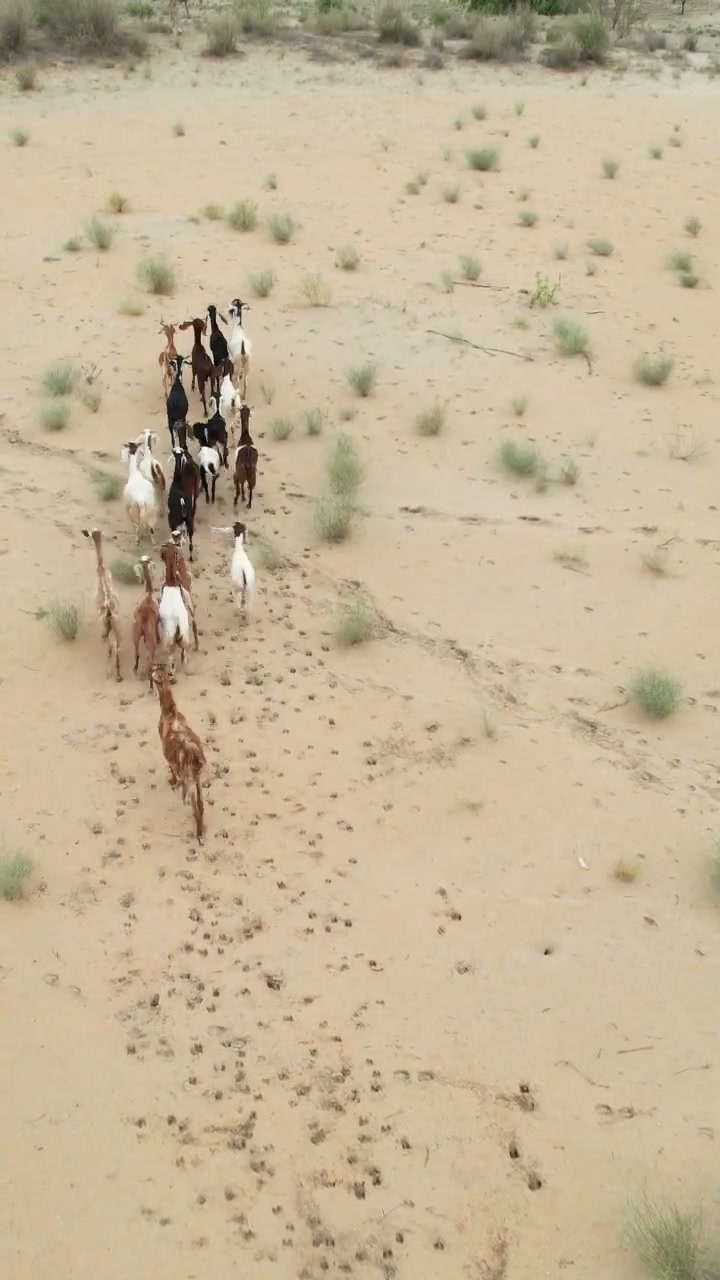animal_foot_print: (97, 584, 533, 1279)
